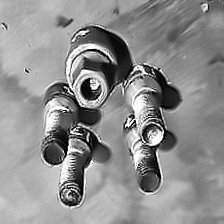tiny_holes: (200, 1, 213, 14), (1, 21, 11, 32), (22, 67, 31, 76)
